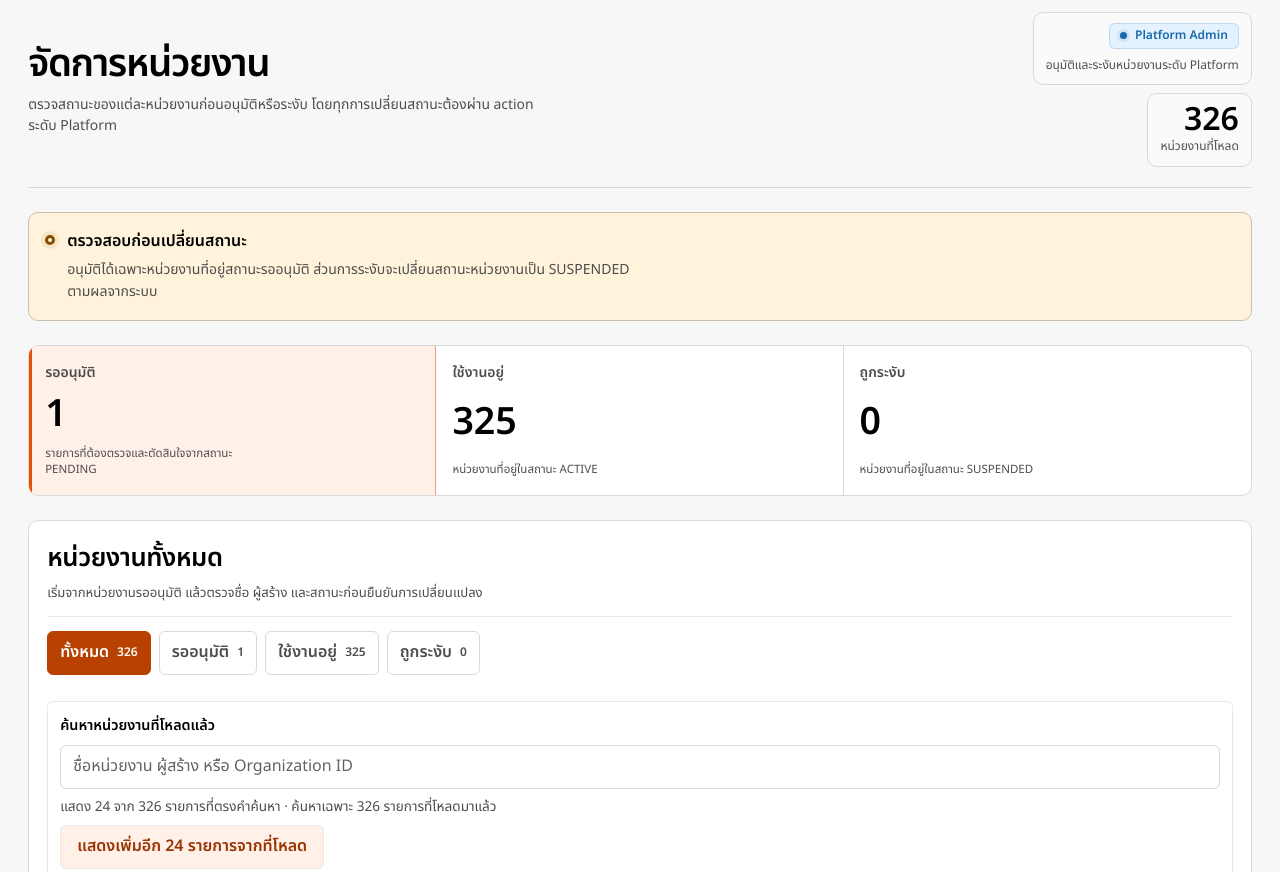
Scenario: PlatformOrganizationsView › searches an organization beyond the first 24 cards among 326 loaded rows without mutating status
The image size is (1280, 872).
In the search field labelled "ค้นหาหน่วยงานที่โหลดแล้ว": (640, 767) x1=60 y1=745 x2=1220 y2=789, type "campus organization 250"
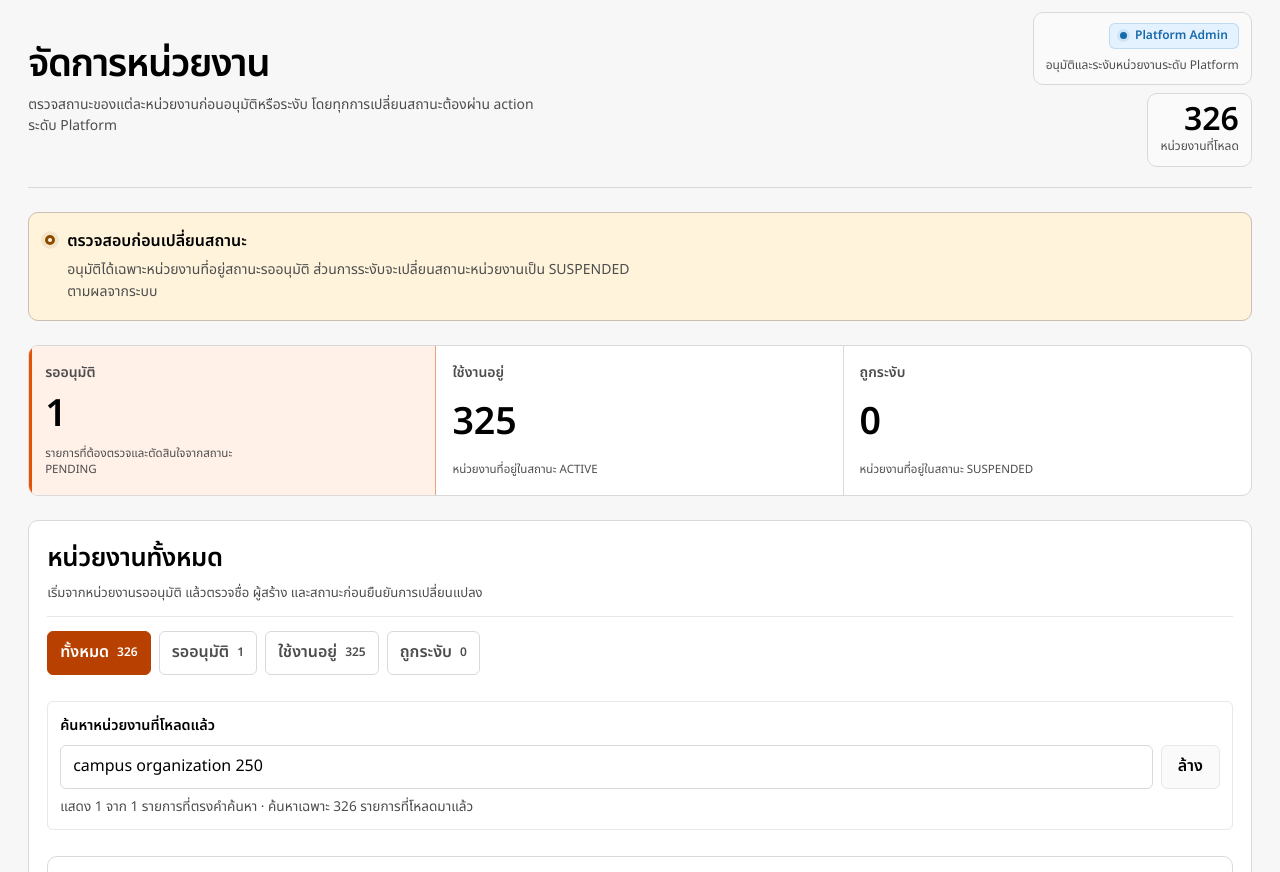
Replace the text in the search field labelled "ค้นหาหน่วยงานที่โหลดแล้ว" with "final research": (606, 767) x1=60 y1=745 x2=1153 y2=789
(page scrolled)
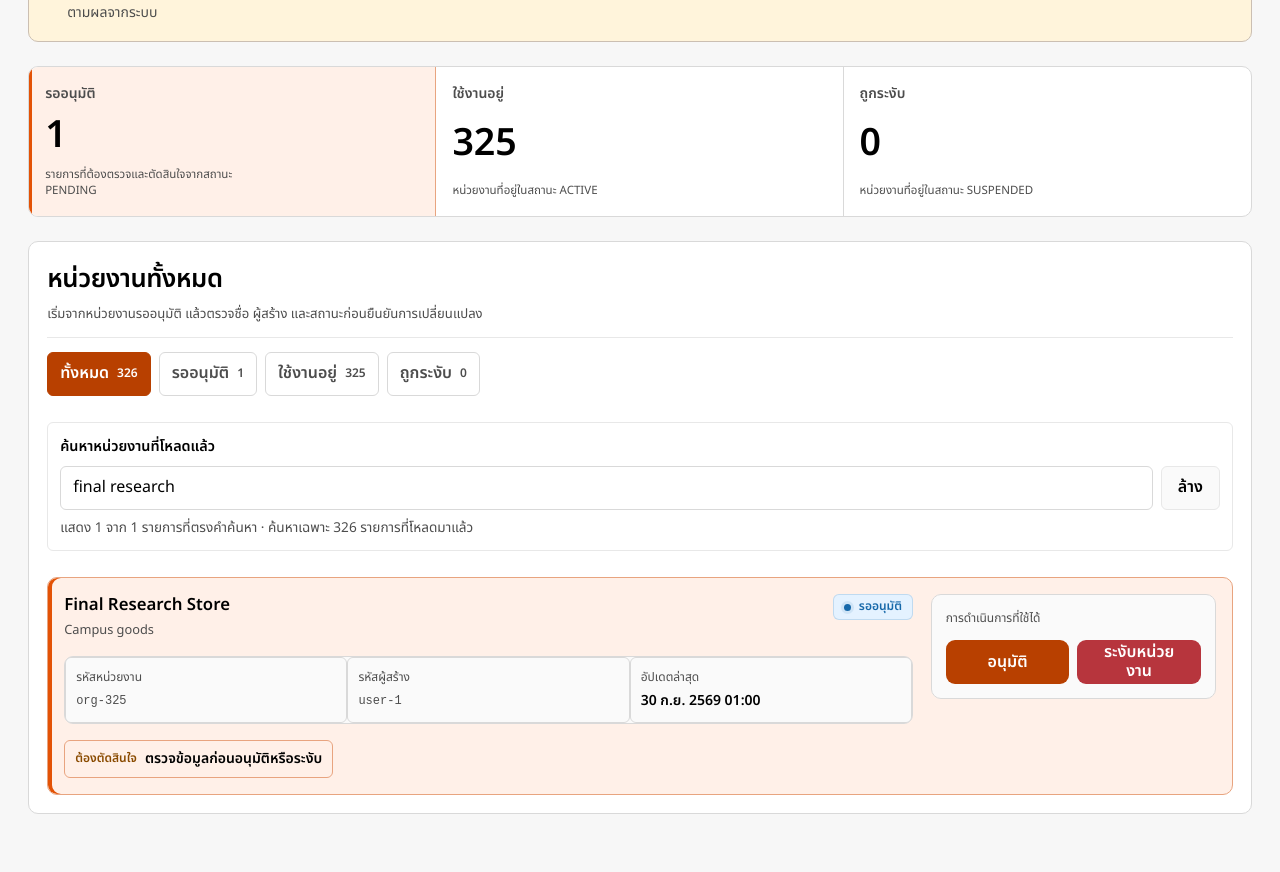
Check: the heading "Final Research Store" is shown, box x1=64 y1=592 x2=230 y2=618
Check: the button "อนุมัติ" is shown, box x1=946 y1=640 x2=1069 y2=684
